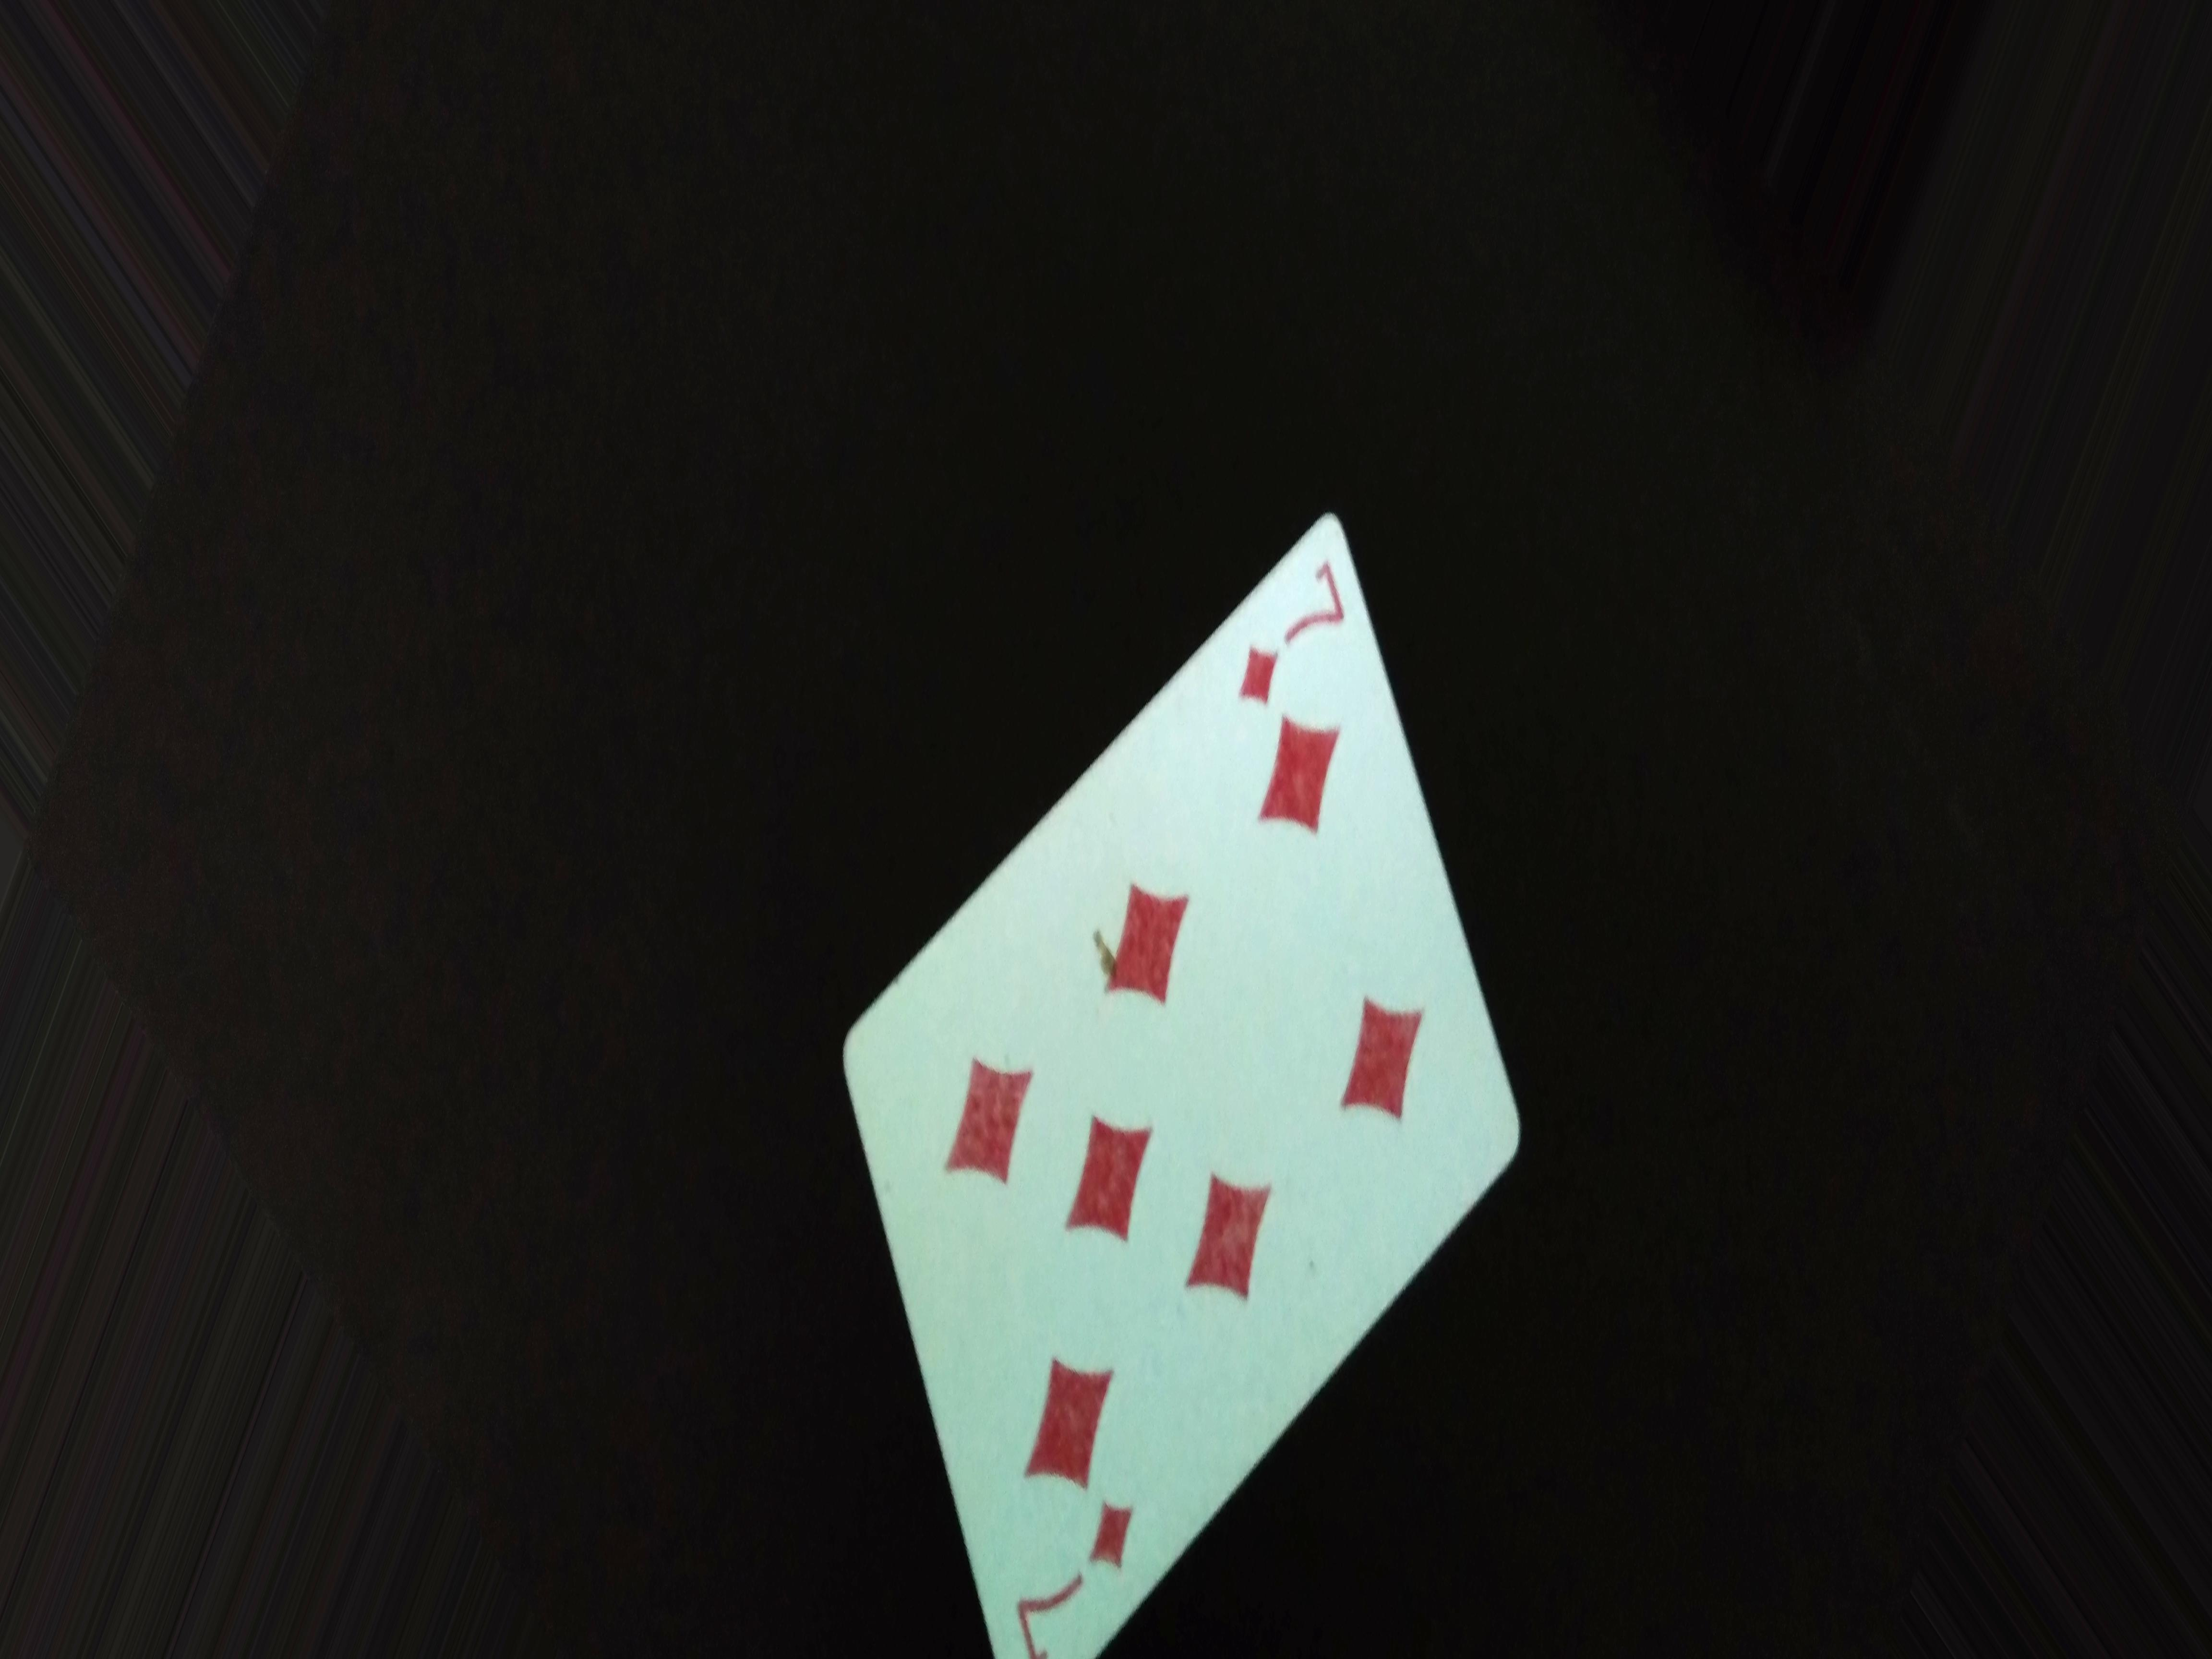7D: (1219, 556, 1359, 716)
